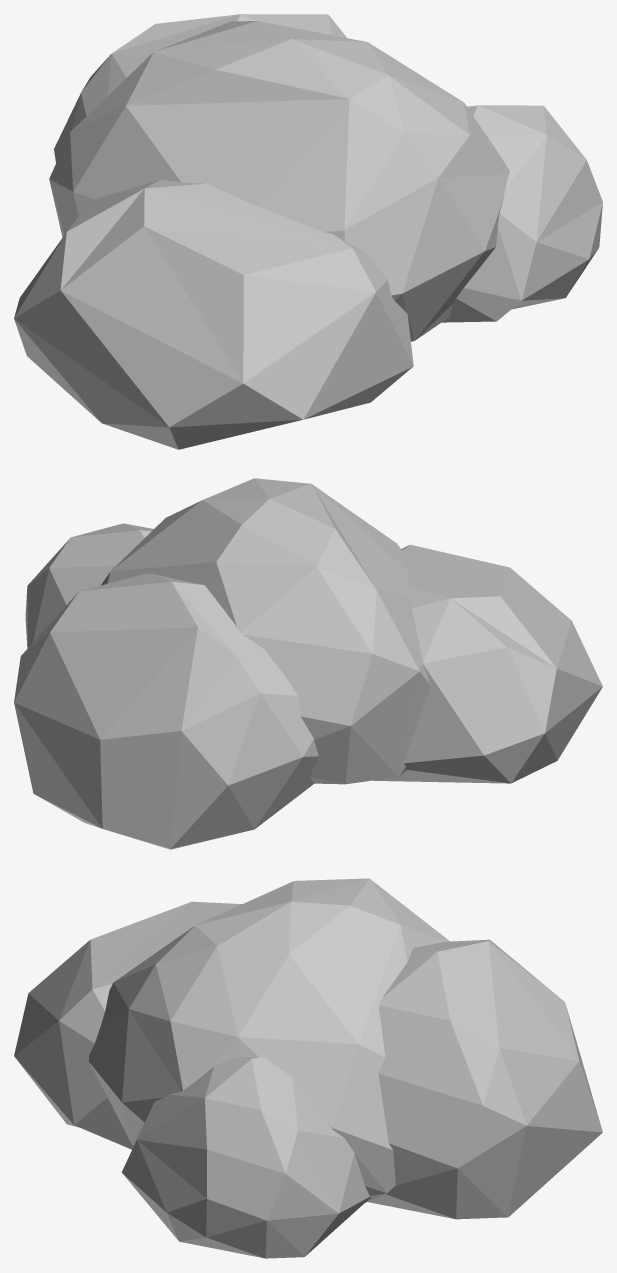
File: SM_Env_Cloud_07.gltf
3 views of the same model, one above another, from view 1: azimuth 30°, elevation 25°; view 2: azimuth 150°, elevation 25°; view 3: azimuth 270°, elevation 25° (orthographic). The views are drawn at different scales.
Visible parts, largest first — view 1: SM_Env_Cloud_07; view 2: SM_Env_Cloud_07; view 3: SM_Env_Cloud_07.
Boxes of the visible parts, box(x1,y1,x2,y2) form: SM_Env_Cloud_07: box(14, 14, 602, 449); SM_Env_Cloud_07: box(14, 478, 602, 849); SM_Env_Cloud_07: box(14, 878, 602, 1258).
Bounding box in the file's own units: 4.88 × 2.44 × 4.73.
Materials: 1 (1 with a texture image).
